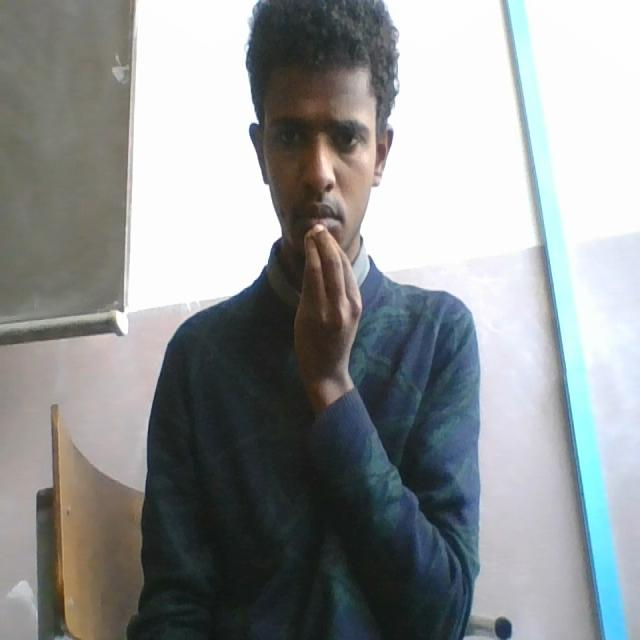meblat: (282, 202, 358, 400)
